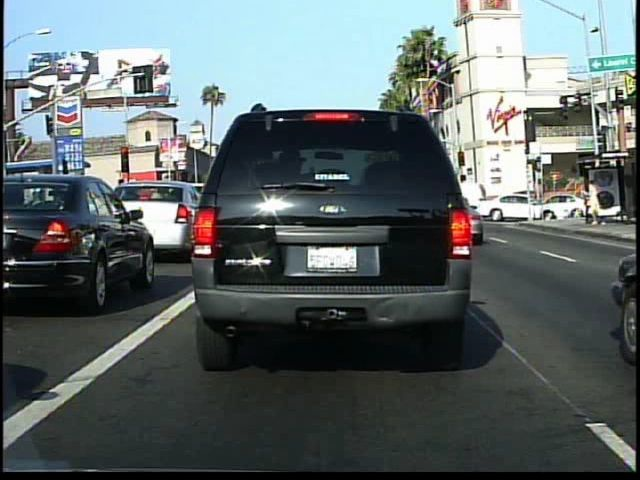person: (582, 174, 605, 226)
